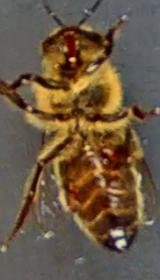varroa_mite: (96, 138, 128, 167)
